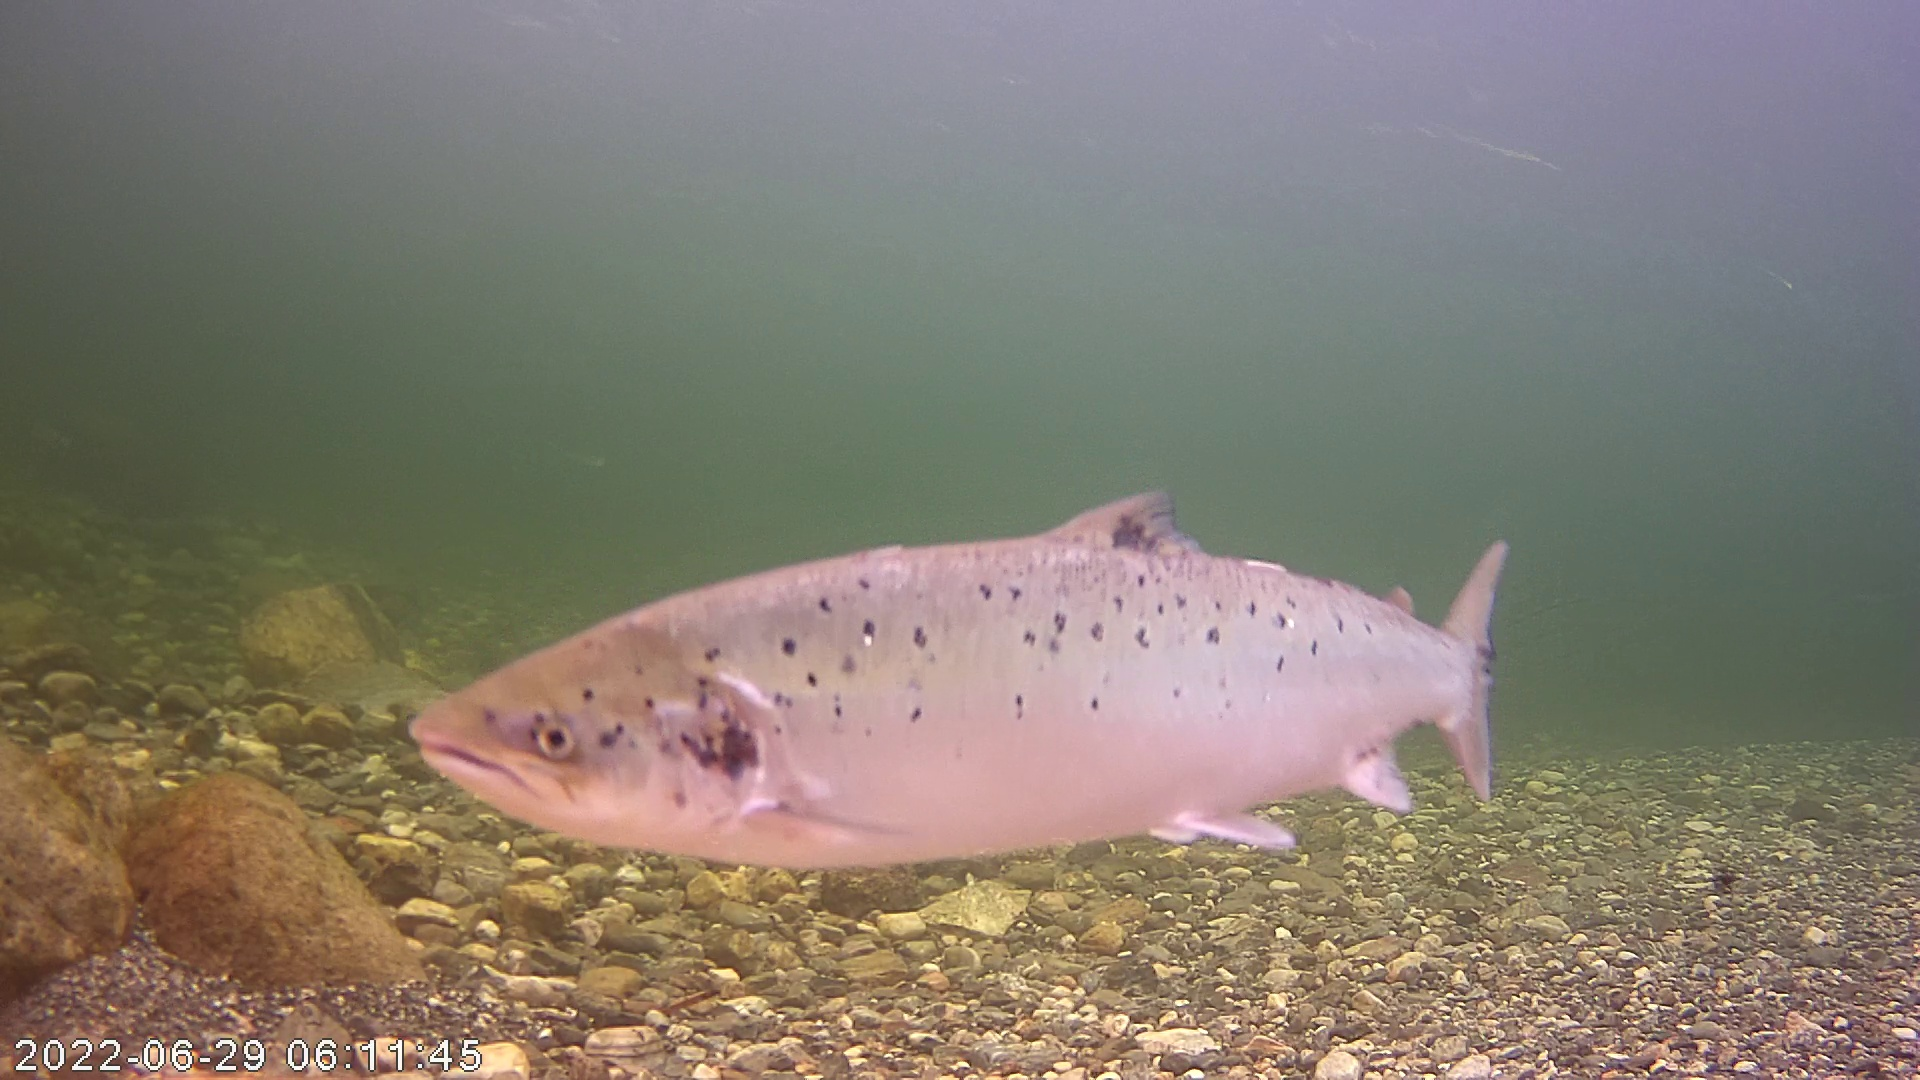salmon: (442, 375, 1516, 870)
